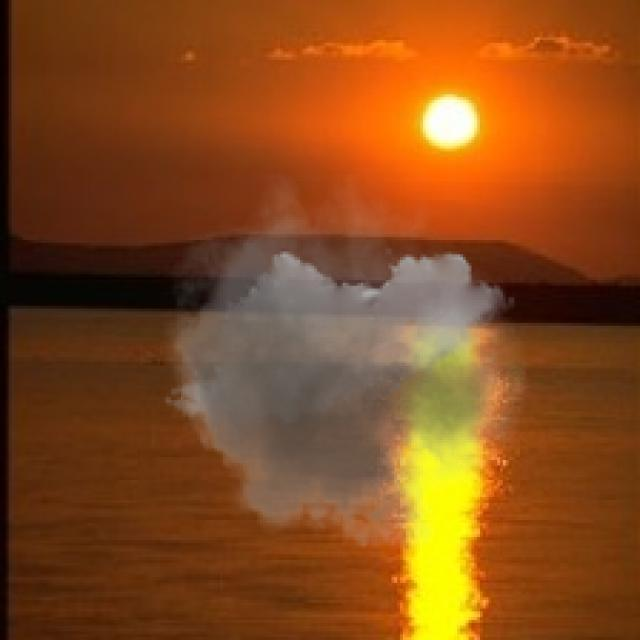Smoke: (152, 172, 528, 568)
